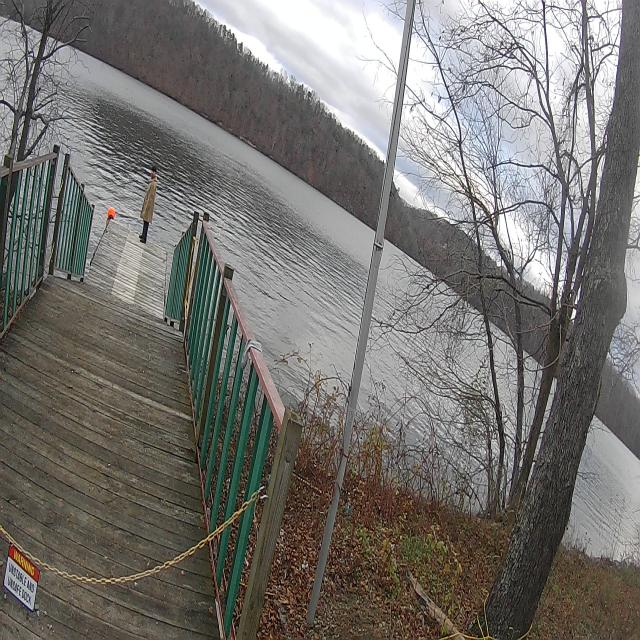Buoy: (105, 200, 119, 226)
